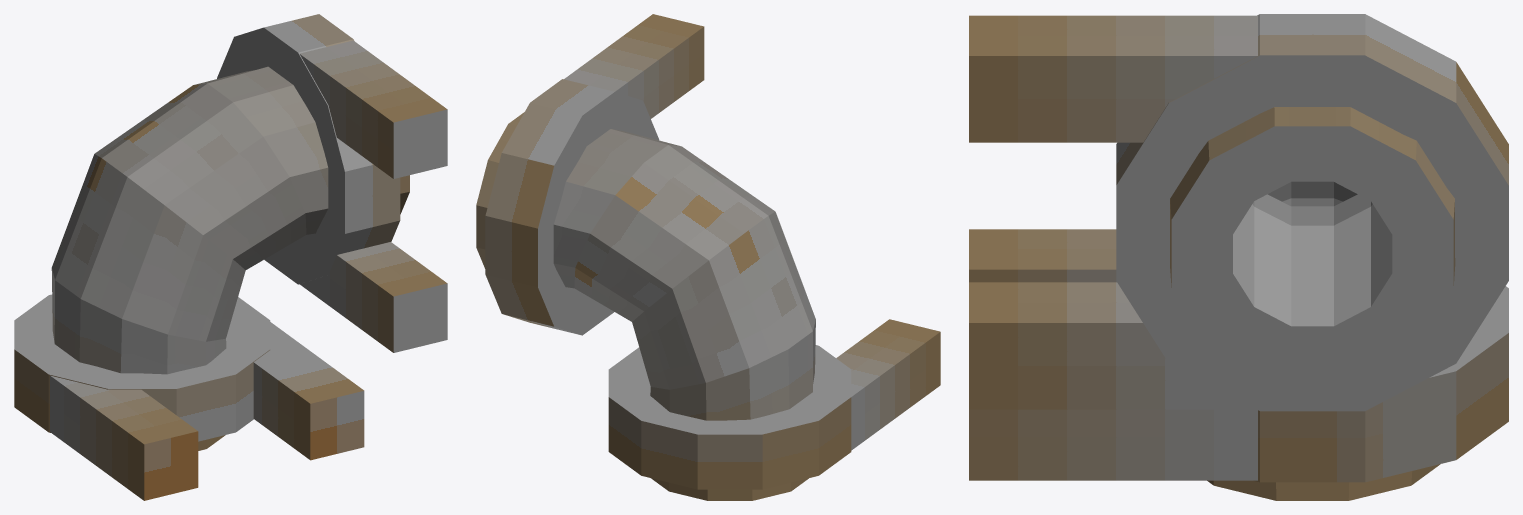
The model's file is paipu-magattayatu.fbx.
The picture shows the model from 3 angles, left to right: view 1: azimuth 30°, elevation 25°; view 2: azimuth 150°, elevation 25°; view 3: azimuth 270°, elevation 25°; orthographic projection. The views are drawn at different scales.
Visible parts, largest first — view 1: tube, tube_1, tube_2, cuboid_3, cuboid, cuboid_1, cuboid_2; view 2: tube, tube_1, tube_2, cuboid_3, cuboid; view 3: tube, tube_1, cuboid, cuboid_1, tube_2, cuboid_2, cuboid_3.
Boxes of the visible parts, x1,y1,x2,y2 form: tube: [51, 66, 409, 450]; tube_1: [217, 14, 400, 284]; tube_2: [14, 294, 270, 441]; cuboid_3: [50, 375, 198, 500]; cuboid: [300, 40, 447, 178]; cuboid_1: [299, 242, 447, 352]; cuboid_2: [253, 322, 364, 460]; tube: [476, 112, 815, 500]; tube_1: [485, 79, 659, 335]; tube_2: [608, 345, 851, 489]; cuboid_3: [836, 319, 940, 450]; cuboid: [564, 14, 704, 118]; tube: [1170, 107, 1455, 500]; tube_1: [1116, 14, 1508, 411]; cuboid: [969, 15, 1257, 142]; cuboid_1: [969, 282, 1256, 409]; tube_2: [1253, 286, 1508, 482]; cuboid_2: [969, 409, 1257, 480]; cuboid_3: [969, 229, 1116, 282].
Bounding box in the file's own units: 75 × 75 × 68.75.
